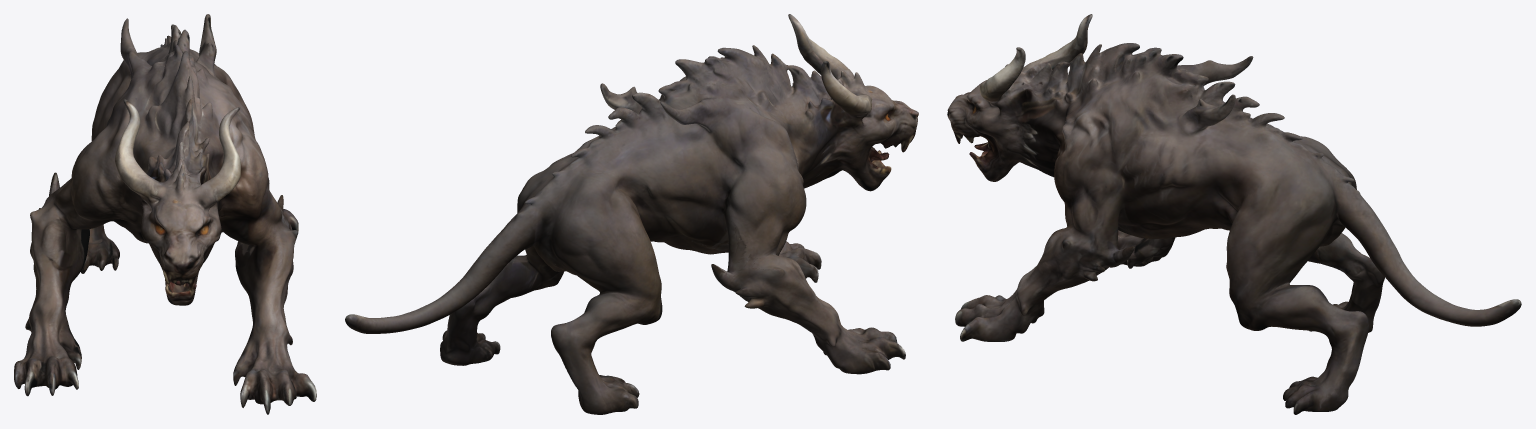
The model's file is undead_beast.glb.
3 renders of one model, left to right at view 1: azimuth 30°, elevation 25°; view 2: azimuth 150°, elevation 25°; view 3: azimuth 270°, elevation 25°, orthographic. The views are drawn at different scales.
Visible parts, largest first — view 1: Mesh1_Mesh1.056; view 2: Mesh1_Mesh1.056; view 3: Mesh1_Mesh1.056.
Boxes of the visible parts, x1=… form: Mesh1_Mesh1.056: x1=14, y1=14, x2=316, y2=414; Mesh1_Mesh1.056: x1=345, y1=14, x2=918, y2=414; Mesh1_Mesh1.056: x1=947, y1=14, x2=1521, y2=414.
Size of the model in its own units: 1.43 by 1.08 by 2.
1 material, 1 textured.
